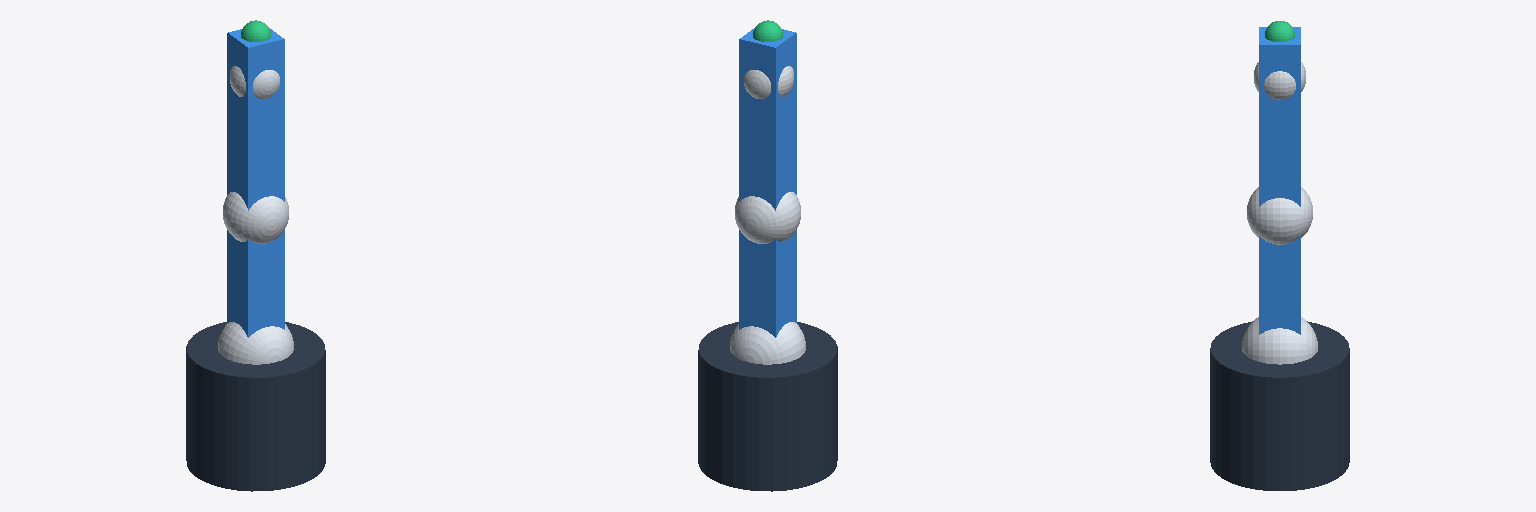
URDF robot description (arm7):
<?xml version="1.0"?>
<!--
  arm7 — 7-DOF arm description used by the pick_ik web viewer.

  This file MUST stay consistent with the solver's kinematic chain
  (libpick_ik_core/tests/arm7_fk.hpp, ported 1:1 from the p5 POC's
  computeURDFFK). The viewer places each link's frame at the matching
  POST /fk frame:

    base_link  = identity (the FK "base")
    link1      = frames[0]  (after J1, base yaw)
    link2      = frames[1]  (after J2, shoulder pitch)
    link3      = frames[2]  (after J3, shoulder roll)
    link4      = frames[3]  (after J4, elbow pitch)
    link5      = frames[4]  (after J5, forearm roll)
    link6      = frames[5]  (after J6, wrist pitch)
    link7      = frames[6]  (after J7, tool roll)
    tool_link  = frames[7]  (tool0, link7 + 0.065 m along its z)

  Conventions:
    * Units are meters / radians.
    * rpy = fixed-axis rotations Rz(yaw) * Ry(pitch) * Rx(roll)
      (URDF standard, same as the solver's rpy_matrix).
    * Joint axes are all 0 0 1 in the joint frame (per the POC URDF).
    * The solver's joint limits/velocities below are the authoritative
      solver-side values; keep them in sync with the C++ core.

  Visuals are plain primitives on purpose: this exact file renders the
  same picture the viewer used to hardcode. To use real geometry, add
  <mesh filename="meshes/your_part.stl" scale="1 1 1"/> inside a
  <visual> — binary or ASCII STL, units meters. See README.md.
-->
<robot name="arm7">

  <!-- Design B desktop dimensions (2026-08 rescale; see
         libpick-ik-core/docs/desktop-arm-design-study.md). -->
  <!-- ================= base ================= -->
  <link name="base_link">
    <visual>
      <origin xyz="0 0 0.09" rpy="0 0 0"/>
      <geometry>
        <!-- pedestal (cylinder; the old look was a 0.09/0.11 frustum,
             0.10 is indistinguishable at display scale) -->
        <cylinder length="0.18" radius="0.10"/>
      </geometry>
      <material name="pedestal">
        <color rgba="0.235 0.290 0.361 1"/>
      </material>
    </visual>
  </link>

  <joint name="joint1" type="revolute">
    <parent link="base_link"/>
    <child link="link1"/>
    <origin xyz="0 0 0" rpy="0 0 0"/>
    <axis xyz="0 0 1"/>
    <limit lower="-3.14159" upper="3.14159" effort="87" velocity="2.17"/>
  </joint>

  <!-- base column: base -> J2 pivot (0.18 m). Rotates with J1 yaw,
       which leaves a vertical on-axis box invariant. -->
  <link name="link1">
    <visual>
      <origin xyz="0 0 0.09" rpy="0 0 0"/>
      <geometry>
        <box size="0.08 0.08 0.18"/>
      </geometry>
      <material name="link_blue">
        <color rgba="0.302 0.639 1 1"/>
      </material>
    </visual>
  </link>

  <joint name="joint2" type="revolute">
    <parent link="link1"/>
    <child link="link2"/>
    <origin xyz="0 0 0.18" rpy="-1.5707963 0 0"/>
    <axis xyz="0 0 1"/>
    <limit lower="-2.09" upper="2.09" effort="18" velocity="2.17"/>  <!-- AK10-9 rated -->
  </joint>

  <!-- upper arm: J2 pivot -> J4 pivot (0.215 m). link2's frame points
       its local -y along world +z at zero pose (origin rpy -pi/2), so
       the box sits on local -y. -->
  <link name="link2">
    <visual>
      <origin xyz="0 -0.1075 0" rpy="0 0 0"/>
      <geometry>
        <box size="0.06 0.215 0.06"/>
      </geometry>
      <material name="link_blue"/>
    </visual>
    <visual>
      <!-- J2 pivot sphere (AK10-9 housing, Ø98) -->
      <origin xyz="0 0 0" rpy="0 0 0"/>
      <geometry>
        <sphere radius="0.055"/>
      </geometry>
      <material name="joint_white">
        <color rgba="0.882 0.910 0.941 1"/>
      </material>
    </visual>
  </link>

  <joint name="joint3" type="revolute">
    <parent link="link2"/>
    <child link="link3"/>
    <origin xyz="0 0 0" rpy="1.5707963 0 0"/>
    <axis xyz="0 0 1"/>
    <limit lower="-3.14159" upper="3.14159" effort="87" velocity="2.17"/>
  </joint>

  <!-- shoulder roll: pivot coincides with the parent, no geometry -->
  <link name="link3"/>

  <joint name="joint4" type="revolute">
    <parent link="link3"/>
    <child link="link4"/>
    <origin xyz="0 0 0.215" rpy="-1.5707963 0 0"/>
    <axis xyz="0 0 1"/>
    <limit lower="-2.09" upper="2.09" effort="8.3" velocity="2.17"/>  <!-- AK70-10 rated -->
  </joint>

  <!-- forearm: J4 pivot -> J6 pivot (0.215 m) -->
  <link name="link4">
    <visual>
      <origin xyz="0 -0.1075 0" rpy="0 0 0"/>
      <geometry>
        <box size="0.06 0.215 0.06"/>
      </geometry>
      <material name="link_blue"/>
    </visual>
    <visual>
      <!-- J4 pivot sphere (AK70-10 housing, Ø89) -->
      <origin xyz="0 0 0" rpy="0 0 0"/>
      <geometry>
        <sphere radius="0.048"/>
      </geometry>
      <material name="joint_white"/>
    </visual>
  </link>

  <joint name="joint5" type="revolute">
    <parent link="link4"/>
    <child link="link5"/>
    <origin xyz="0 0 0" rpy="1.5707963 0 0"/>
    <axis xyz="0 0 1"/>
    <limit lower="-3.14159" upper="3.14159" effort="12" velocity="2.61"/>
  </joint>

  <!-- forearm roll: pivot coincides, no geometry -->
  <link name="link5"/>

  <joint name="joint6" type="revolute">
    <parent link="link5"/>
    <child link="link6"/>
    <origin xyz="0 0 0.215" rpy="-1.5707963 0 0"/>
    <axis xyz="0 0 1"/>
    <limit lower="-2.09" upper="2.09" effort="12" velocity="2.61"/>
  </joint>

  <!-- wrist: J6 pivot -> tool0 (0.065 m) -->
  <link name="link6">
    <visual>
      <origin xyz="0 -0.0325 0" rpy="0 0 0"/>
      <geometry>
        <box size="0.06 0.065 0.06"/>
      </geometry>
      <material name="link_blue"/>
    </visual>
    <visual>
      <!-- J6 pivot sphere (placeholder housing, <= Ø70 motor) -->
      <origin xyz="0 0 0" rpy="0 0 0"/>
      <geometry>
        <sphere radius="0.038"/>
      </geometry>
      <material name="joint_white"/>
    </visual>
  </link>

  <joint name="joint7" type="revolute">
    <parent link="link6"/>
    <child link="link7"/>
    <origin xyz="0 0 0" rpy="1.5707963 0 0"/>
    <axis xyz="0 0 1"/>
    <limit lower="-3.14159" upper="3.14159" effort="12" velocity="2.61"/>
  </joint>

  <!-- tool roll: pivot coincides, no geometry -->
  <link name="link7"/>

  <!-- tool0: fixed 0.065 m along link7 z -->
  <joint name="tool_offset" type="fixed">
    <parent link="link7"/>
    <child link="tool_link"/>
    <origin xyz="0 0 0.065" rpy="0 0 0"/>
  </joint>

  <link name="tool_link">
    <visual>
      <!-- grip knob -->
      <origin xyz="0 0 0" rpy="0 0 0"/>
      <geometry>
        <sphere radius="0.022"/>
      </geometry>
      <material name="tool_green">
        <color rgba="0.243 0.812 0.557 1"/>
      </material>
    </visual>
    <visual>
      <origin xyz="0 0 0" rpy="0 0 0"/>
      <geometry>
        <box size="0.037 0.005 0.005"/>
      </geometry>
      <material name="tool_green"/>
    </visual>
    <visual>
      <origin xyz="0 0 0" rpy="0 0 0"/>
      <geometry>
        <box size="0.005 0.037 0.005"/>
      </geometry>
      <material name="tool_green"/>
    </visual>
    <visual>
      <origin xyz="0 0 0" rpy="0 0 0"/>
      <geometry>
        <box size="0.005 0.005 0.037"/>
      </geometry>
      <material name="tool_green"/>
    </visual>
  </link>

</robot>

--- Facts derived from the render (not from the file) ---
3 views of the same robot in one strip: view 1: azimuth 30°, elevation 25°; view 2: azimuth 150°, elevation 25°; view 3: azimuth 270°, elevation 25° (orthographic).
Model arm7 with 9 links and 8 joints (7 revolute, 1 fixed), rooted at base_link, posed every joint at zero.
Visible links, largest first — view 1: base_link, link4, link2, link6; view 2: base_link, link4, link2, link6; view 3: base_link, link4, link2, link6.
Boxes of the visible links, bbox=[...] form: base_link: bbox=[186, 322, 325, 491]; link4: bbox=[223, 74, 288, 243]; link2: bbox=[218, 230, 293, 364]; link6: bbox=[227, 28, 284, 98]; base_link: bbox=[698, 322, 837, 491]; link4: bbox=[735, 74, 800, 243]; link2: bbox=[730, 230, 805, 364]; link6: bbox=[739, 28, 796, 98]; base_link: bbox=[1210, 321, 1349, 490]; link4: bbox=[1247, 86, 1312, 244]; link2: bbox=[1242, 236, 1317, 364]; link6: bbox=[1254, 27, 1305, 99].
Size in the robot's own frame: 0.2 by 0.2 by 0.697 metres.
Geometry: primitives only (box / cylinder / sphere), no mesh files.
